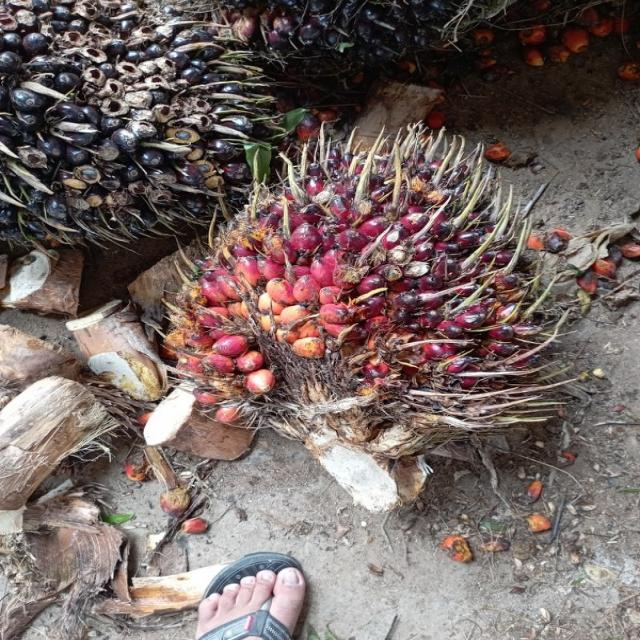fraksi 00: (0, 0, 290, 262)
